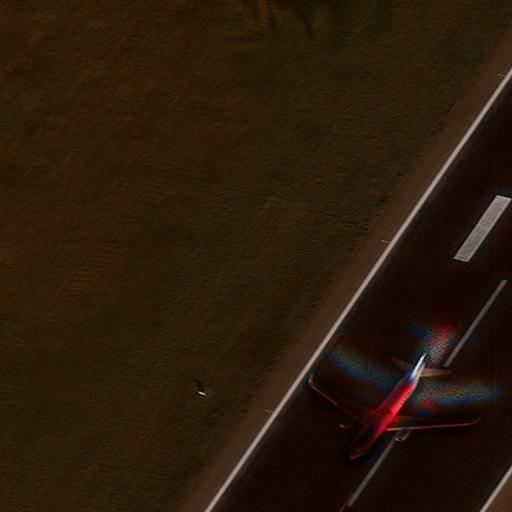Medium Civil Transport: (307, 353, 474, 459)
